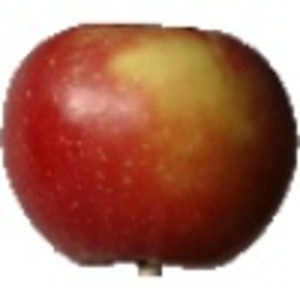maçã braeburn: (1, 20, 299, 270)
